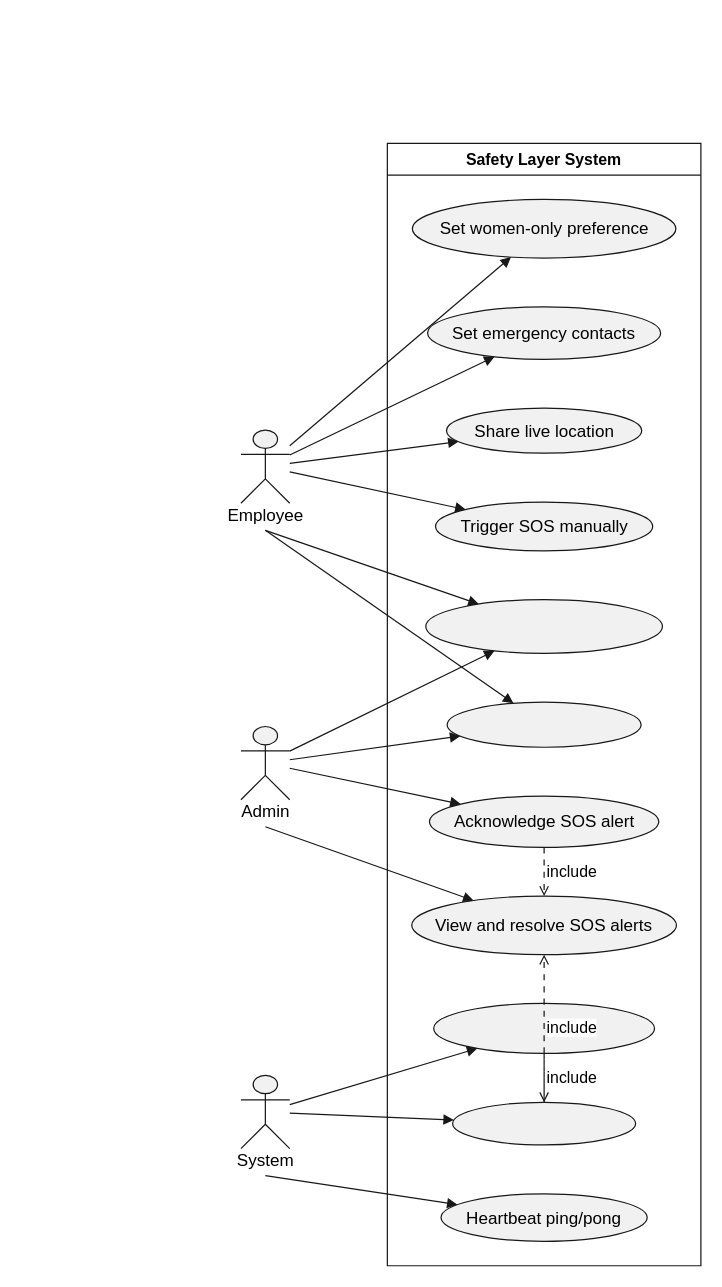
Some shapes in this 722 by 1287 pixel diagram are drawn without their labels. The box of each missing label's shape, as (x1, y1, x2, y2) in pixels:
Auto-trigger SOS: (451, 1101, 636, 1145)
Detect route deviation: (432, 1002, 655, 1053)
Verify corporate identity: (425, 598, 662, 653)
View live trip map: (446, 701, 641, 747)
